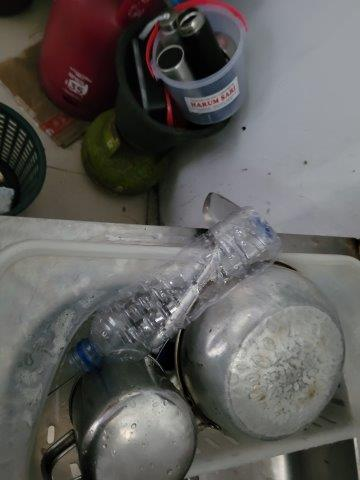botolplastik: (66, 205, 278, 373)
